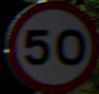Speed limit: (6, 6, 93, 85)
